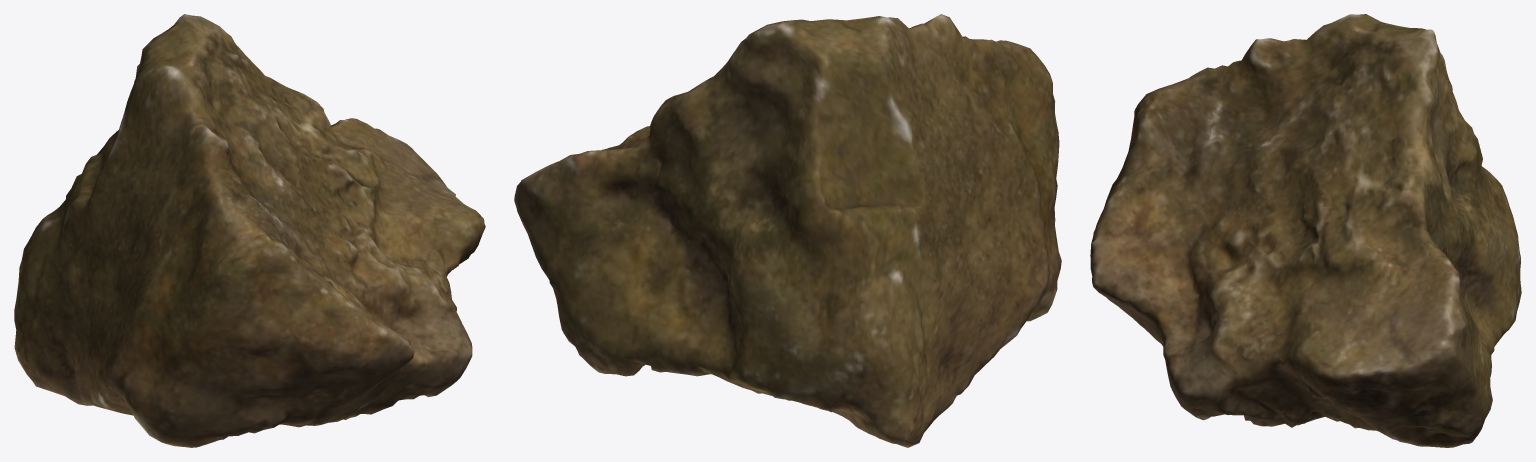
File: MossRock_04.fbx
The picture shows the model from 3 angles, left to right: view 1: azimuth 30°, elevation 25°; view 2: azimuth 150°, elevation 25°; view 3: azimuth 270°, elevation 25°; orthographic projection. The views are drawn at different scales.
Parts seen in each view (by area): view 1: MossRock_04; view 2: MossRock_04; view 3: MossRock_04.
Part boxes in pixels (x1=…): MossRock_04: x1=14, y1=14, x2=485, y2=447; MossRock_04: x1=514, y1=14, x2=1061, y2=447; MossRock_04: x1=1090, y1=14, x2=1521, y2=447.
Bounding box in the file's own units: 0.45 × 0.374 × 0.4155.
Materials: 1 (1 with a texture image).
